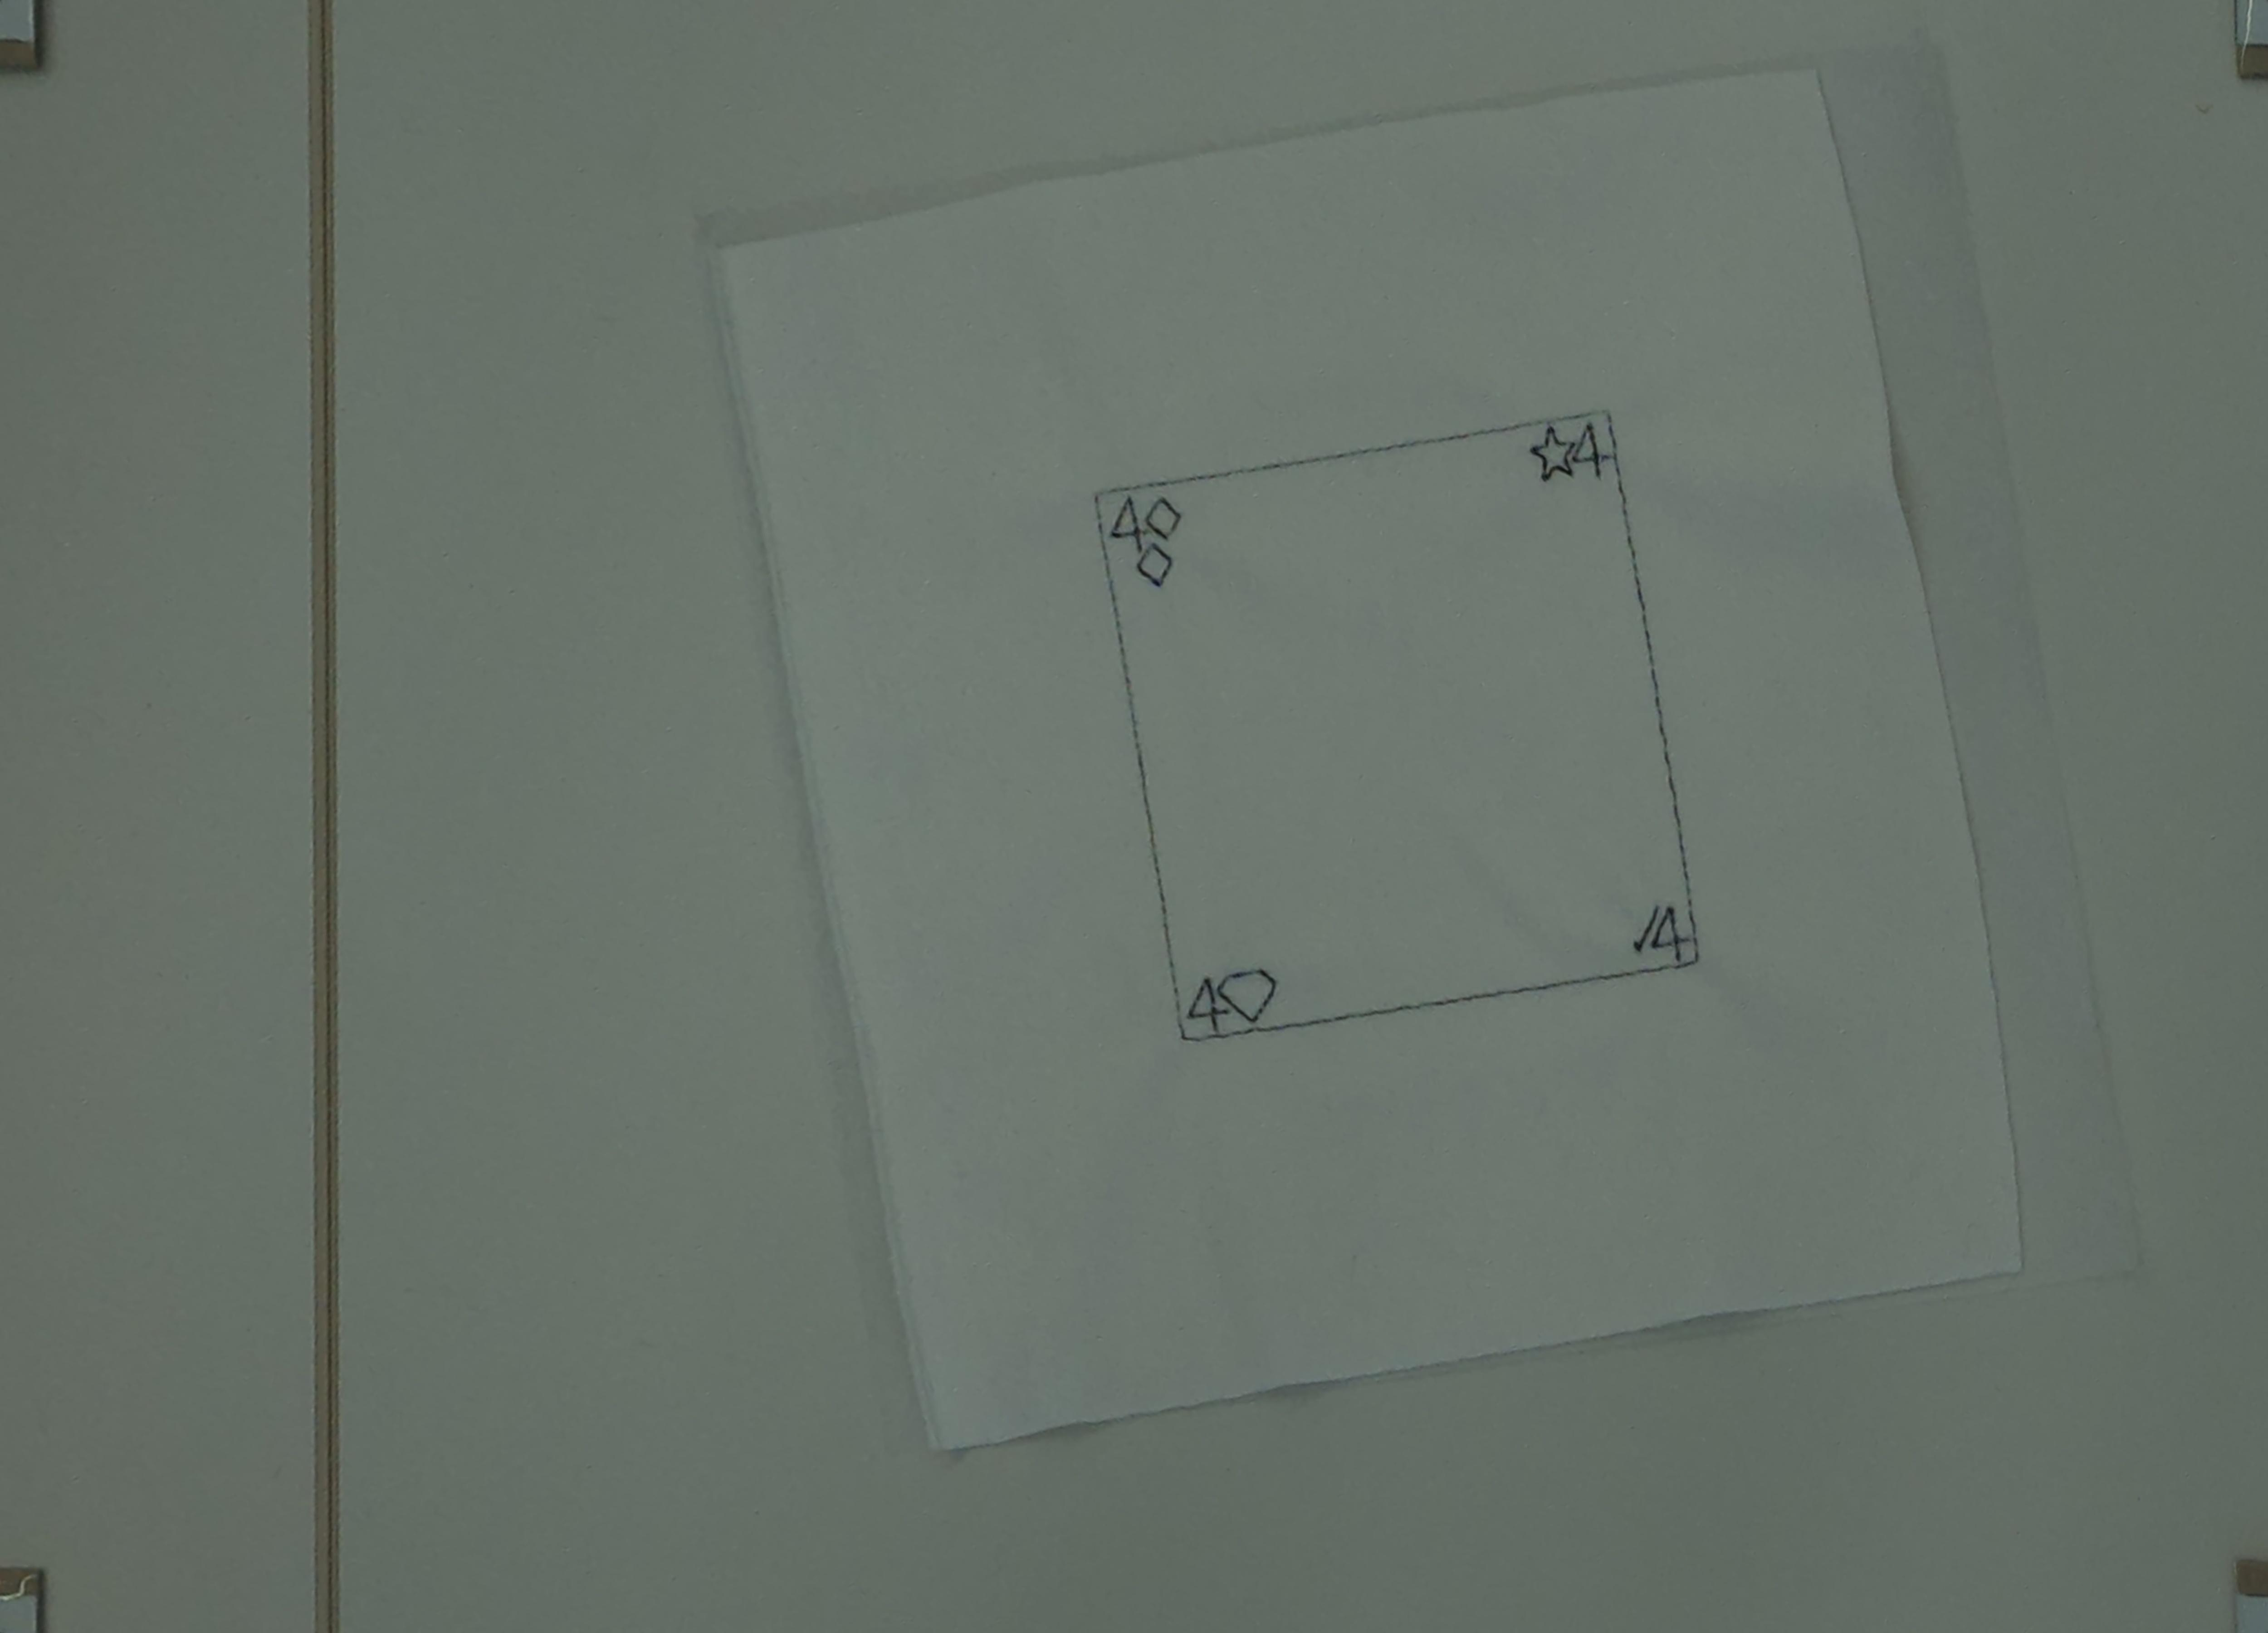4 -: (1166, 962, 1236, 1043), (1101, 490, 1157, 555), (1562, 417, 1609, 483), (1648, 914, 1699, 965)
